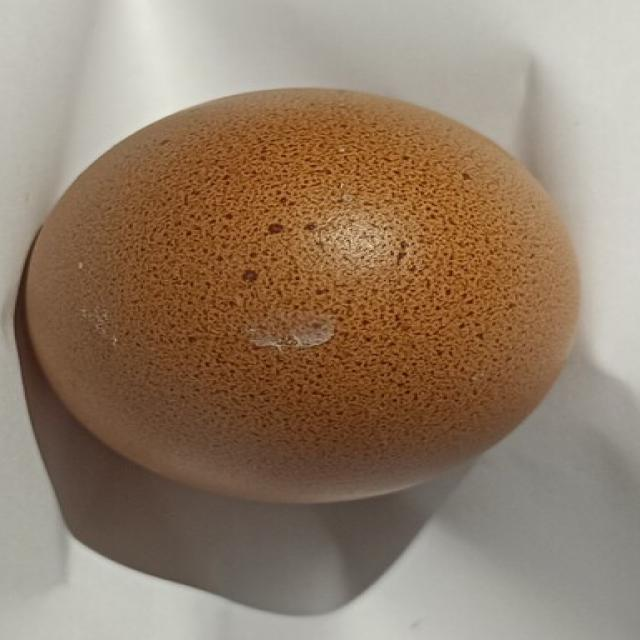unfresh: (18, 79, 589, 509)
